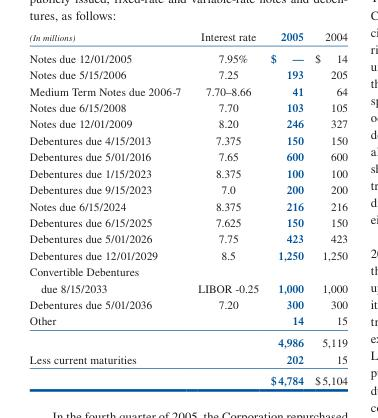table: (28, 29, 347, 386)
table column: (28, 29, 188, 386), (188, 29, 264, 386), (264, 29, 308, 386), (308, 29, 347, 386)
table column header: (28, 29, 347, 46)
table row: (28, 263, 347, 295), (28, 46, 347, 65), (28, 312, 347, 331), (28, 331, 347, 350), (28, 350, 347, 369), (28, 29, 347, 46), (28, 65, 347, 82), (28, 98, 347, 115), (28, 131, 347, 148), (28, 180, 347, 197), (28, 213, 347, 230), (28, 246, 347, 263), (28, 295, 347, 312), (28, 369, 347, 386), (28, 82, 347, 98), (28, 115, 347, 131), (28, 148, 347, 164), (28, 164, 347, 180), (28, 197, 347, 213), (28, 230, 347, 246)
